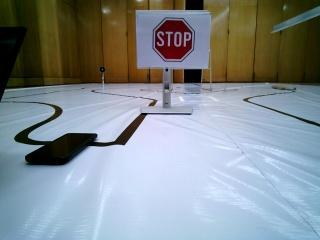stop: (139, 9, 211, 69)
